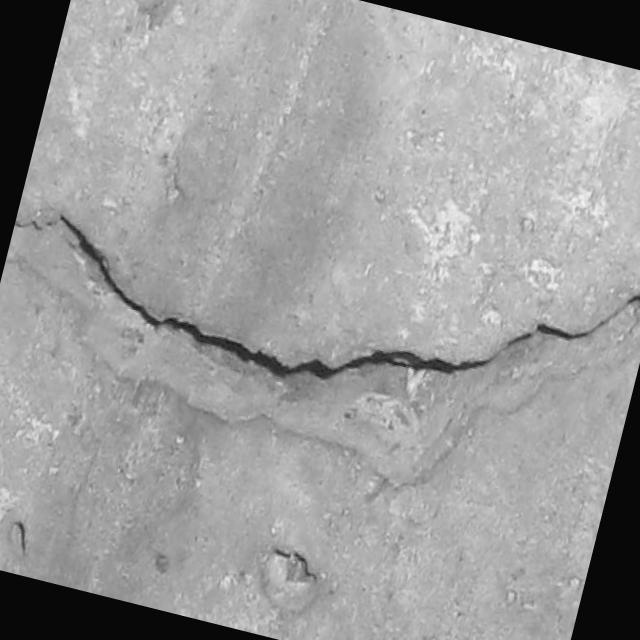crack: (0, 136, 640, 481)
